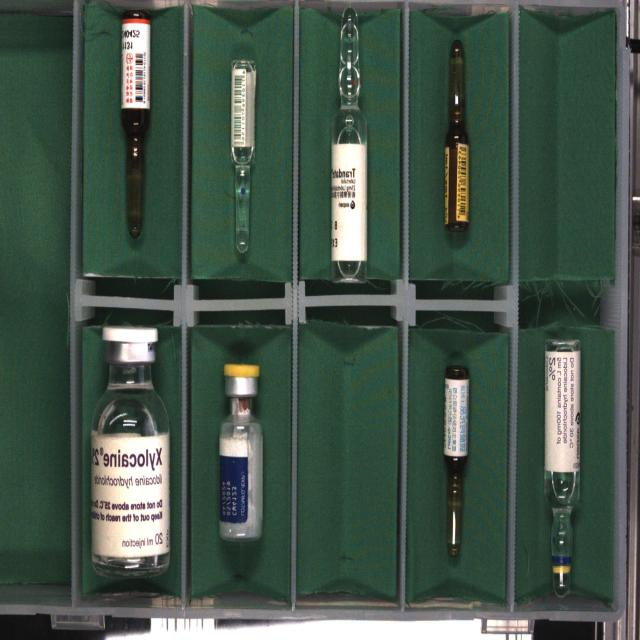Vials: (89, 326, 171, 578), (219, 363, 264, 541)
